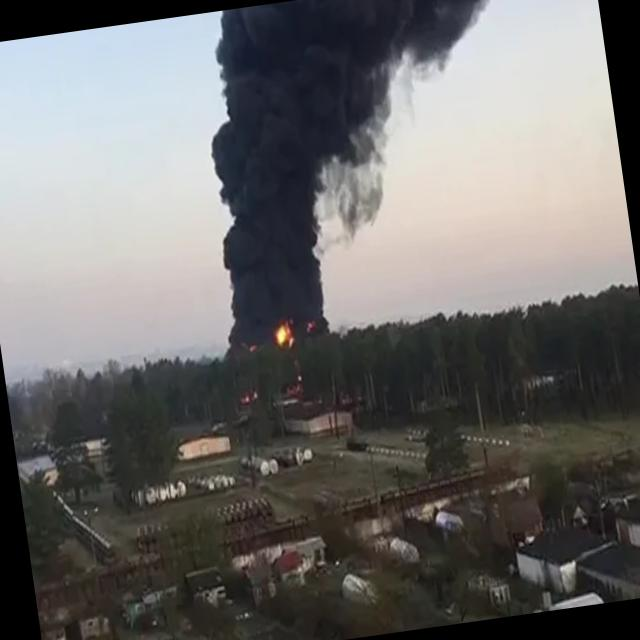Smoke: (184, 0, 421, 352)
